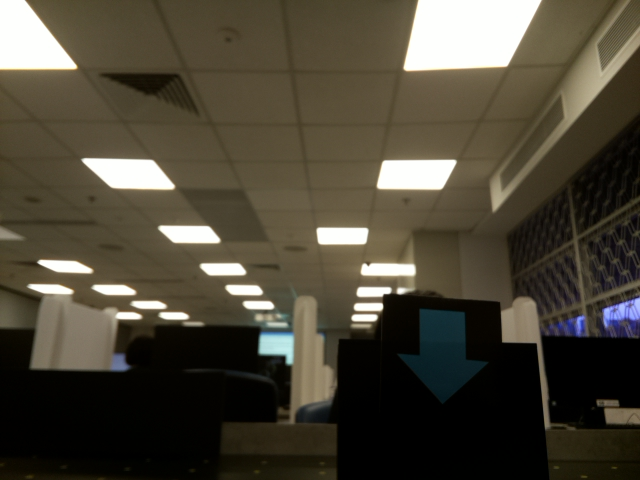down: (391, 306, 501, 405)
